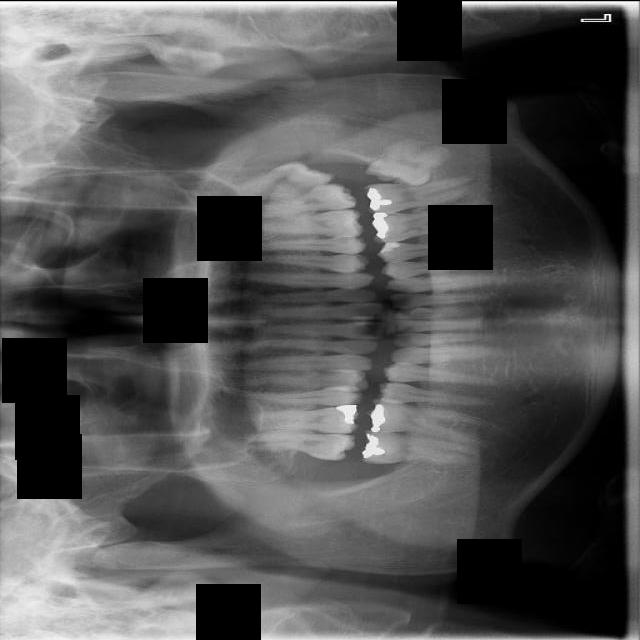52: (363, 395, 415, 438), (362, 179, 408, 218), (360, 427, 404, 466), (370, 208, 415, 245), (313, 404, 359, 434), (376, 240, 416, 263)
BioHorizons Implant: (251, 179, 359, 222)
BioLife Implant: (232, 148, 337, 215)
Biomet 3i Implant: (364, 130, 449, 193)
Blue Sky Bio Implant: (362, 175, 473, 217)
Caries: (244, 428, 356, 461)
Implant: (361, 428, 480, 475)
